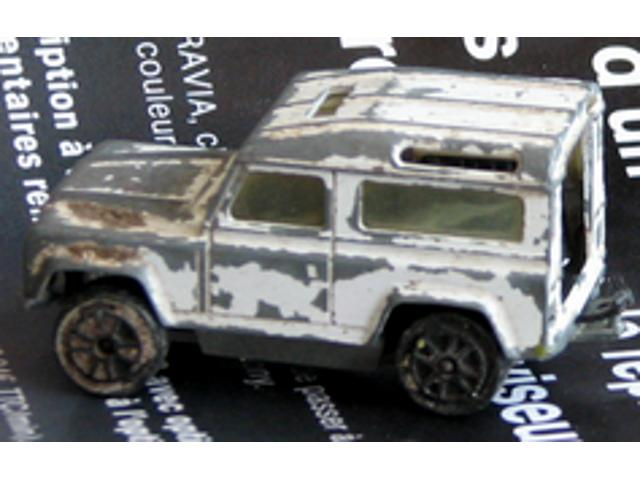toy-car: (21, 64, 633, 420)
